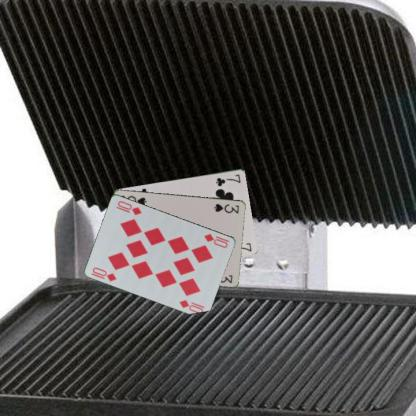10d: (90, 264, 118, 283), (202, 231, 231, 249)
3s: (211, 201, 240, 214)
7c: (213, 172, 242, 187)
